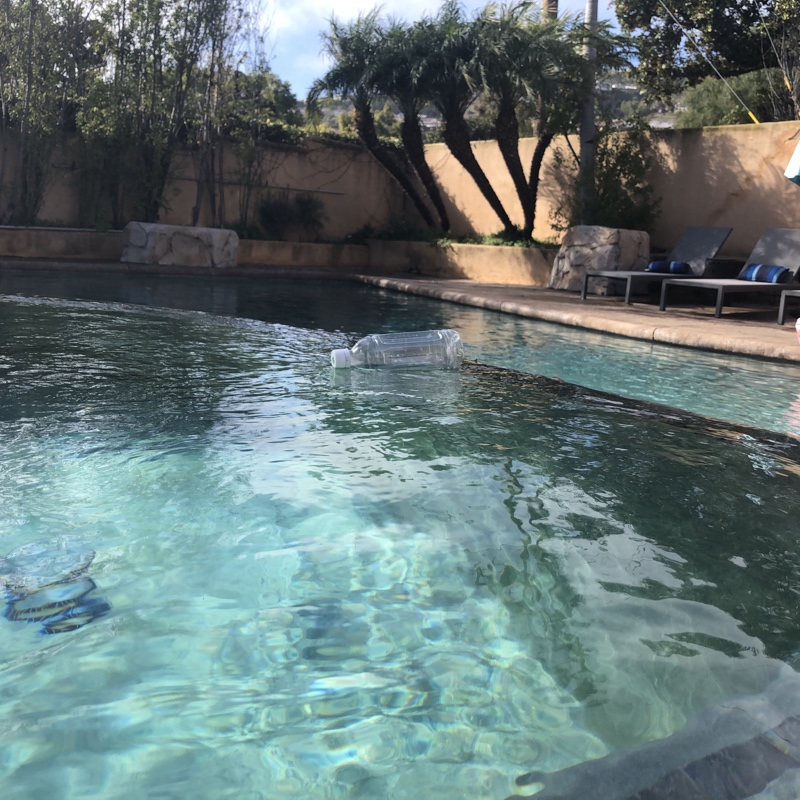Plastic Bottle: (324, 323, 469, 380)
